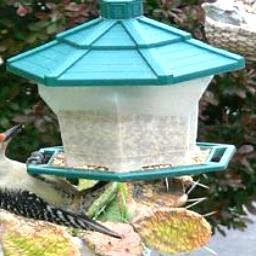Woodpecker: (0, 122, 127, 238)
